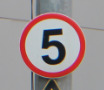speed_limit_5: (20, 13, 86, 78)
